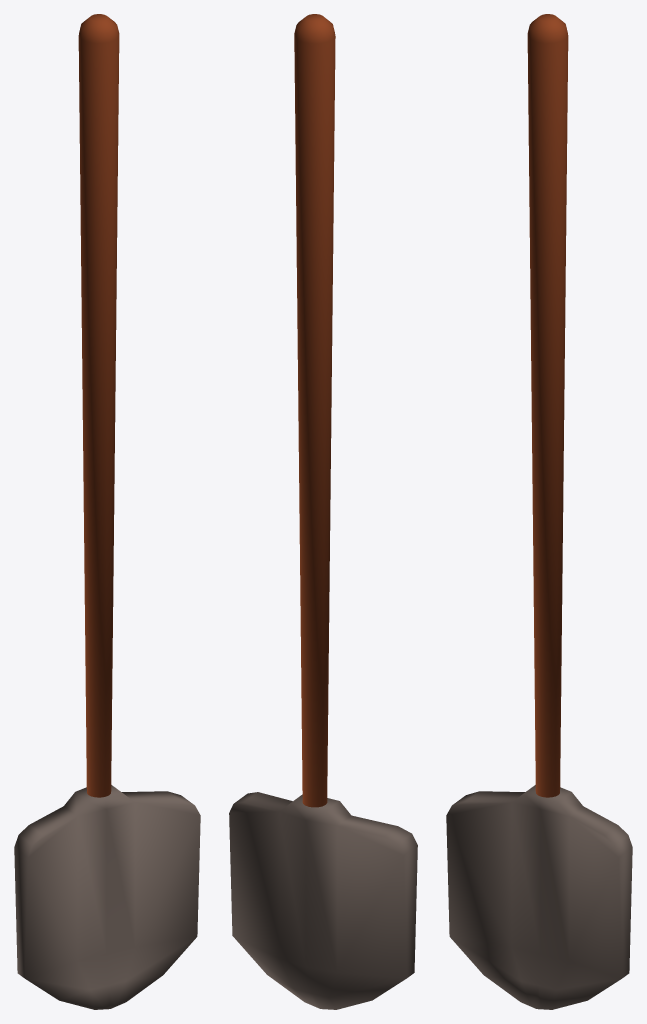
The model's file is Shovel.glb.
The picture shows the model from 3 angles, left to right: view 1: azimuth 30°, elevation 25°; view 2: azimuth 150°, elevation 25°; view 3: azimuth 330°, elevation 25°; orthographic projection.
Visible parts, largest first — view 1: Shovel; view 2: Shovel; view 3: Shovel.
Part boxes in pixels (box(x1,y1,x2,y2)): Shovel: box(14, 14, 200, 1009); Shovel: box(229, 14, 417, 1009); Shovel: box(446, 14, 632, 1009).
Size of the model in its own units: 0.2967 by 1.62 by 0.0767.
